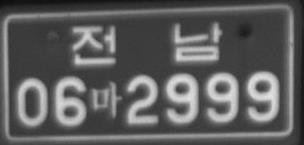0: (16, 76, 49, 127)
2: (127, 74, 159, 124)
6: (54, 75, 88, 125)
9: (205, 70, 240, 123), (246, 70, 280, 123), (165, 72, 199, 124)
마: (91, 81, 122, 119)
전남_D: (71, 20, 224, 65)
